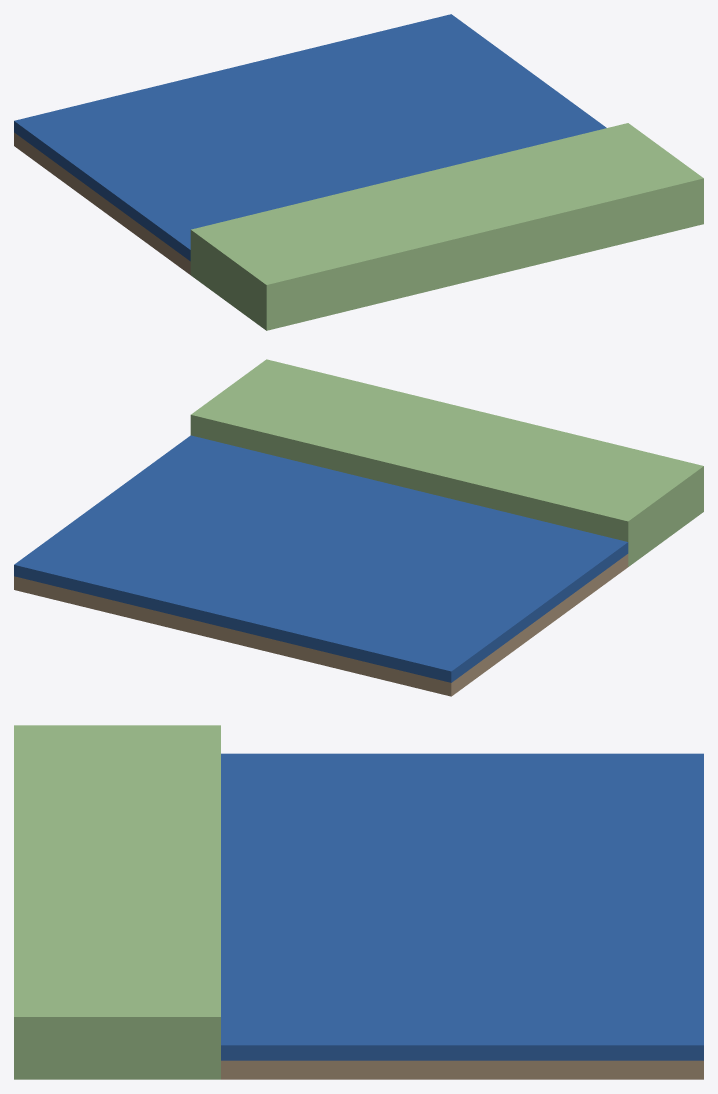
Rendered from river_bank.glb.
The picture shows the model from 3 angles, top to bottom: view 1: azimuth 30°, elevation 25°; view 2: azimuth 150°, elevation 25°; view 3: azimuth 270°, elevation 25°; orthographic projection. The views are drawn at different scales.
Parts seen in each view (by area): view 1: river_bank_water, river_bank_bank, river_bank_bed; view 2: river_bank_water, river_bank_bank, river_bank_bed; view 3: river_bank_water, river_bank_bank, river_bank_bed.
Part boxes in pixels (left/top/right/bottom): river_bank_water: left=14, top=14, right=606, bottom=261; river_bank_bank: left=190, top=123, right=703, bottom=330; river_bank_bed: left=14, top=132, right=190, bottom=274; river_bank_water: left=14, top=435, right=628, bottom=682; river_bank_bank: left=190, top=359, right=703, bottom=566; river_bank_bed: left=14, top=554, right=628, bottom=696; river_bank_water: left=221, top=753, right=703, bottom=1060; river_bank_bank: left=14, top=725, right=220, bottom=1079; river_bank_bed: left=221, top=1060, right=703, bottom=1079.
Size of the model in its own units: 2 by 0.2 by 2.
